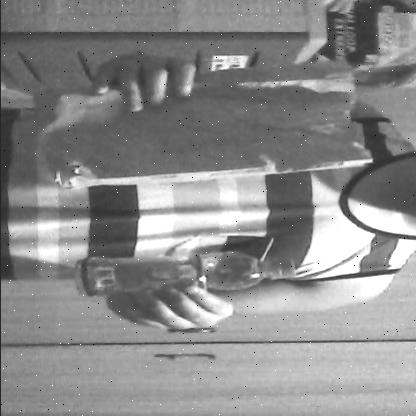Plastic Bottle: (68, 249, 312, 303)
